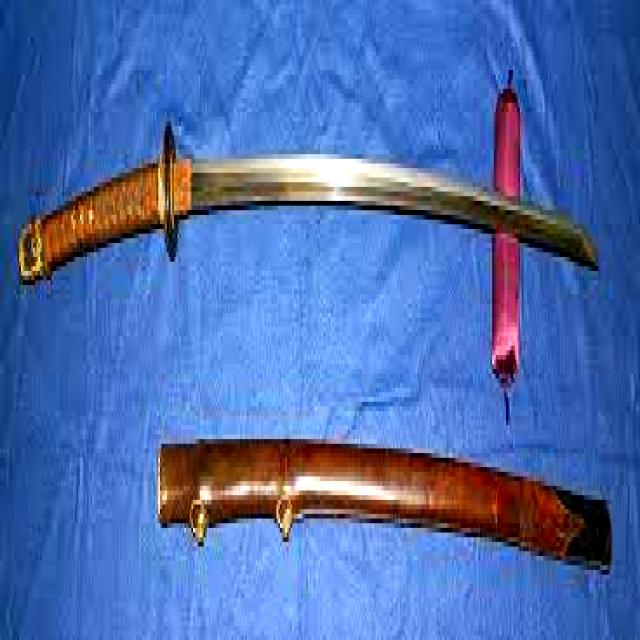long sword: (19, 119, 605, 283)
